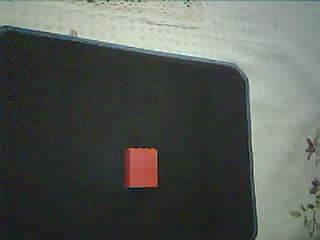lego: (122, 147, 160, 189)
